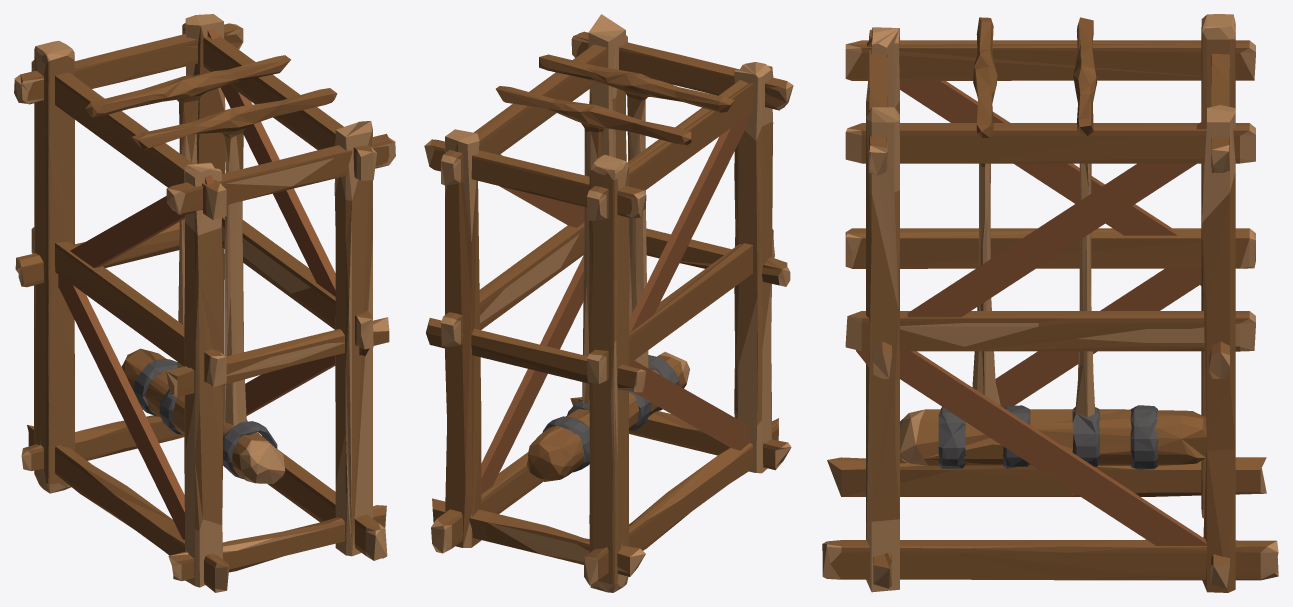
File: LPSWP_Ram04.fbx
3 renders of one model, left to right at view 1: azimuth 30°, elevation 25°; view 2: azimuth 150°, elevation 25°; view 3: azimuth 270°, elevation 25°, orthographic. The views are drawn at different scales.
Parts seen in each view (by area): view 1: LPSWP_Ram04, LPSWP_Ram04_Ram; view 2: LPSWP_Ram04, LPSWP_Ram04_Ram; view 3: LPSWP_Ram04, LPSWP_Ram04_Ram.
Part boxes in pixels (x1=…): LPSWP_Ram04: x1=14, y1=14, x2=395, y2=592; LPSWP_Ram04_Ram: x1=85, y1=55, x2=337, y2=483; LPSWP_Ram04: x1=424, y1=14, x2=793, y2=592; LPSWP_Ram04_Ram: x1=496, y1=54, x2=734, y2=481; LPSWP_Ram04: x1=822, y1=14, x2=1278, y2=592; LPSWP_Ram04_Ram: x1=900, y1=17, x2=1206, y2=469.
Size of the model in its own units: 2.95 by 5.57 by 4.66.
